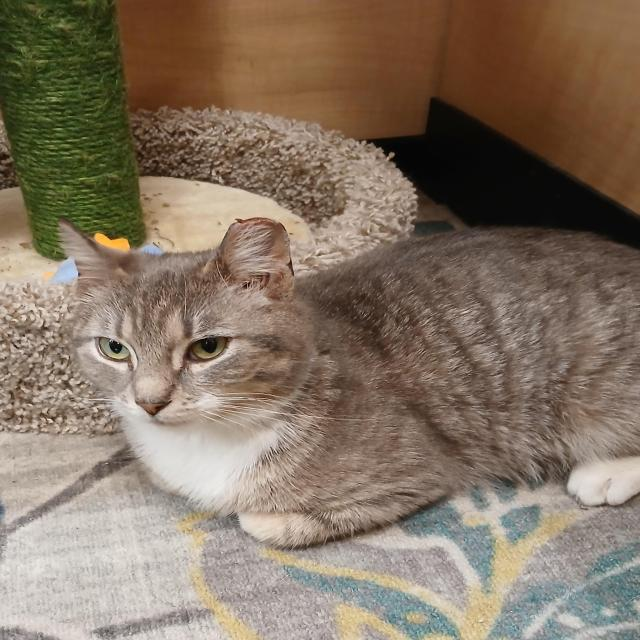manx_cat: (32, 195, 388, 473)
